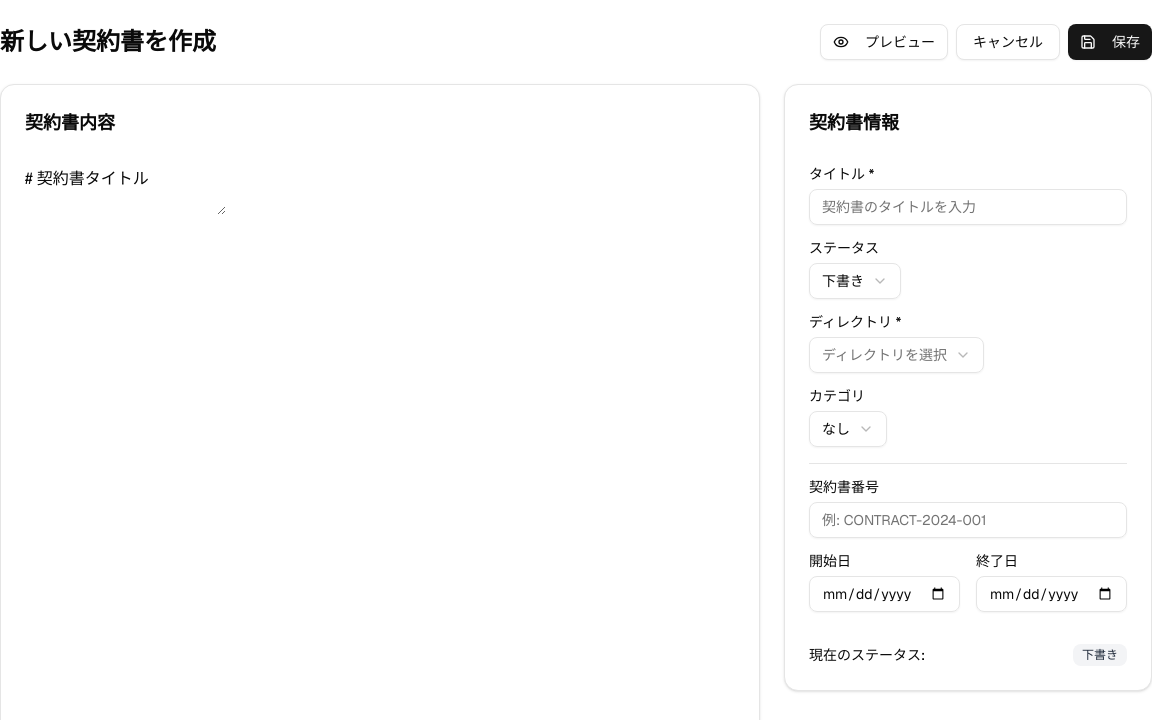
Test case: ContractEditor › バリデーション › 必須フィールドのバリデーションが動作する
Click the button "保存": (1110, 42) [1068,24,1151,60]
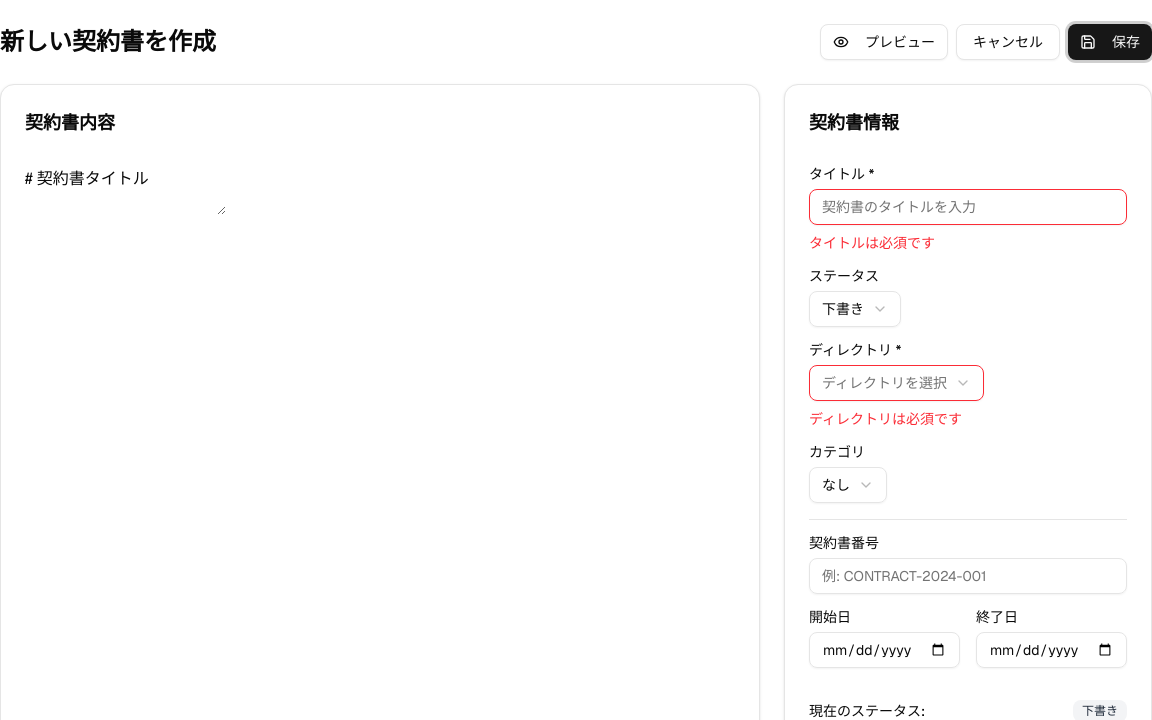
expect the text "タイトルは必須です" is shown: met, box [809,234,935,252]
expect the text "ディレクトリは必須です" is shown: met, box [809,410,962,428]
